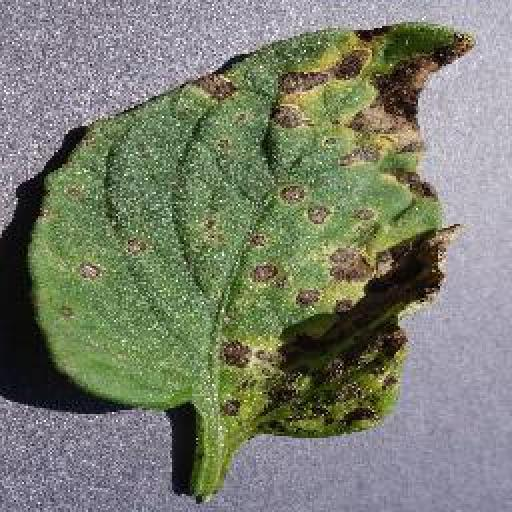Septoria: (31, 18, 478, 434)
